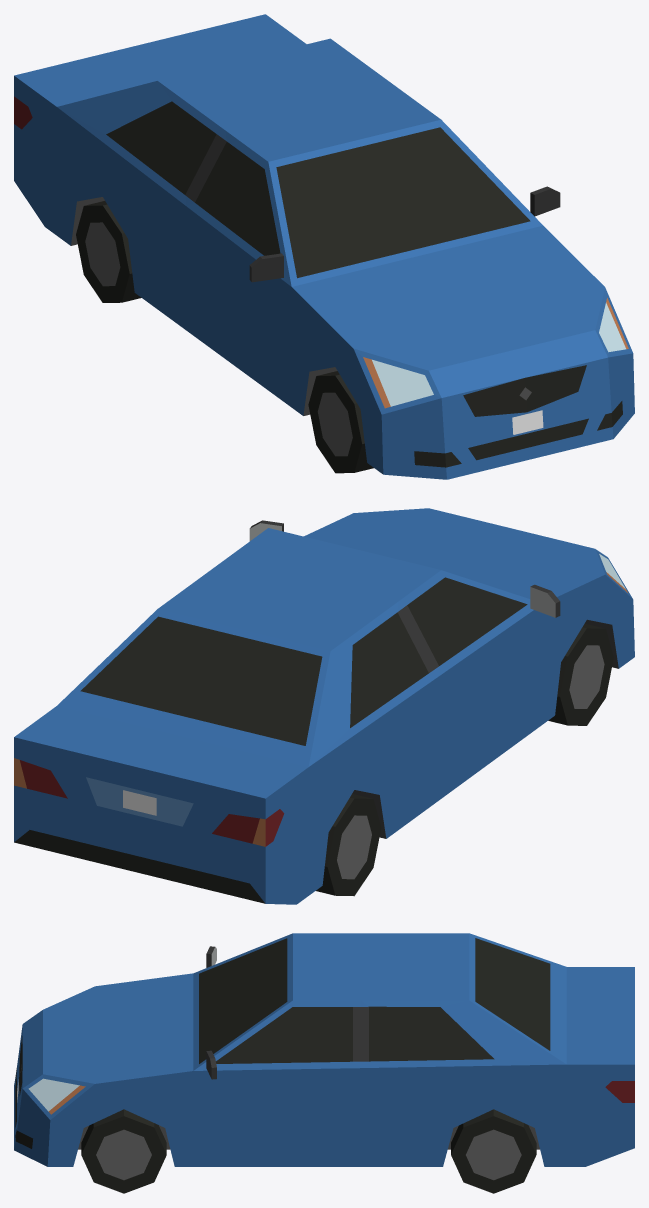
Rendered from Veh_Sedan_03_Blue.obj.
The picture shows the model from 3 angles, top to bottom: view 1: azimuth 30°, elevation 25°; view 2: azimuth 150°, elevation 25°; view 3: azimuth 270°, elevation 25°; orthographic projection. The views are drawn at different scales.
Bounding box in the file's own units: 1.19 × 0.8272 × 2.61.
